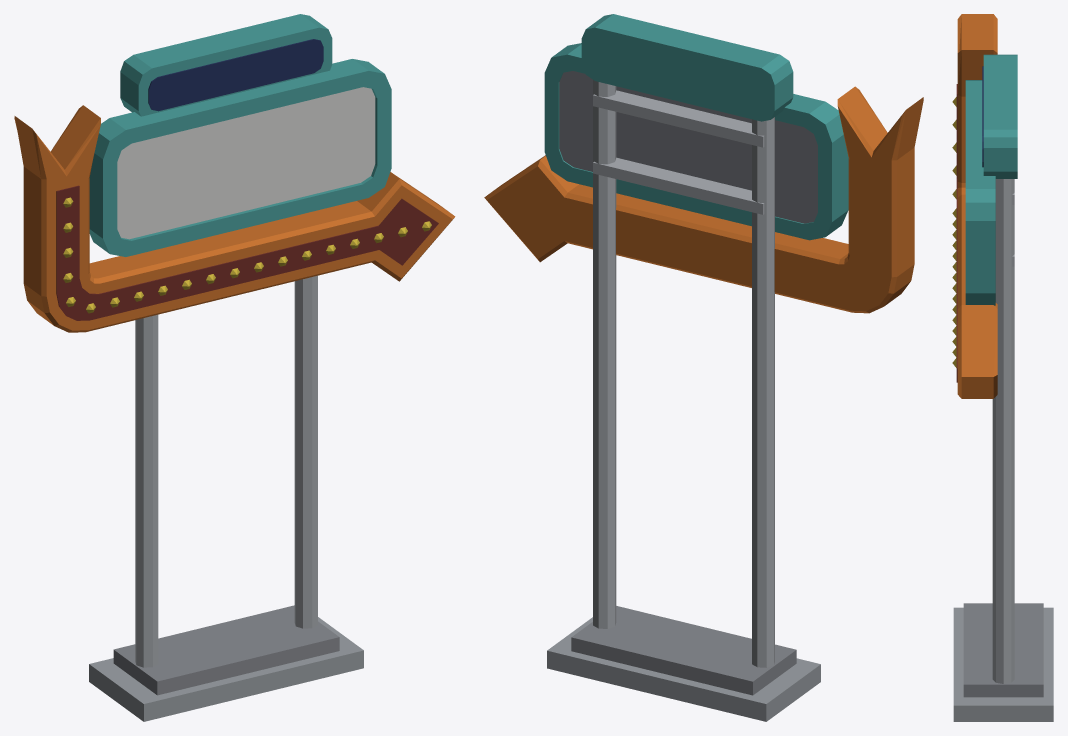
Rendered from diner-sign-ab5f0a.glb.
3 renders of one model, left to right at view 1: azimuth 30°, elevation 25°; view 2: azimuth 150°, elevation 25°; view 3: azimuth 270°, elevation 25°, orthographic. The views are drawn at different scales.
Visible parts, largest first — view 1: diner-sign-body; view 2: diner-sign-body; view 3: diner-sign-body.
Boxes of the visible parts, left/top/right/bottom form: diner-sign-body: left=14, top=14, right=455, bottom=721; diner-sign-body: left=484, top=14, right=923, bottom=721; diner-sign-body: left=952, top=14, right=1053, bottom=721.
Size of the model in its own units: 2.23 by 3.2 by 0.507.
